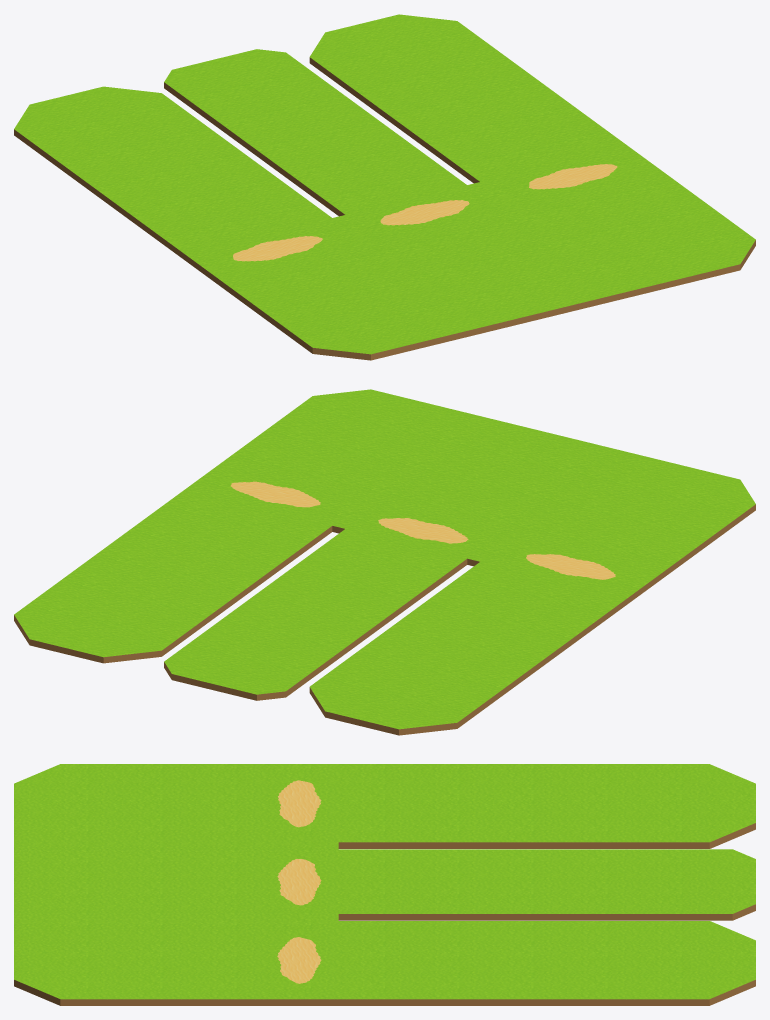
File: surface-09-BJsEVxdG.glb
3 views of the same model, one above another, from view 1: azimuth 30°, elevation 25°; view 2: azimuth 150°, elevation 25°; view 3: azimuth 270°, elevation 25° (orthographic). The views are drawn at different scales.
Visible parts, largest first — view 1: FLC_Surface_09, FLC_Regions_09; view 2: FLC_Surface_09, FLC_Regions_09; view 3: FLC_Surface_09, FLC_Regions_09.
Part boxes in pixels (<box>): FLC_Surface_09: <box>14,14,755,360</box>; FLC_Regions_09: <box>233,164,617,261</box>; FLC_Surface_09: <box>14,389,755,735</box>; FLC_Regions_09: <box>230,481,615,579</box>; FLC_Surface_09: <box>14,764,755,1005</box>; FLC_Regions_09: <box>277,780,321,983</box>.
Bounding box in the file's own units: 24 × 0.324 × 32.
3 materials, 2 textured.
